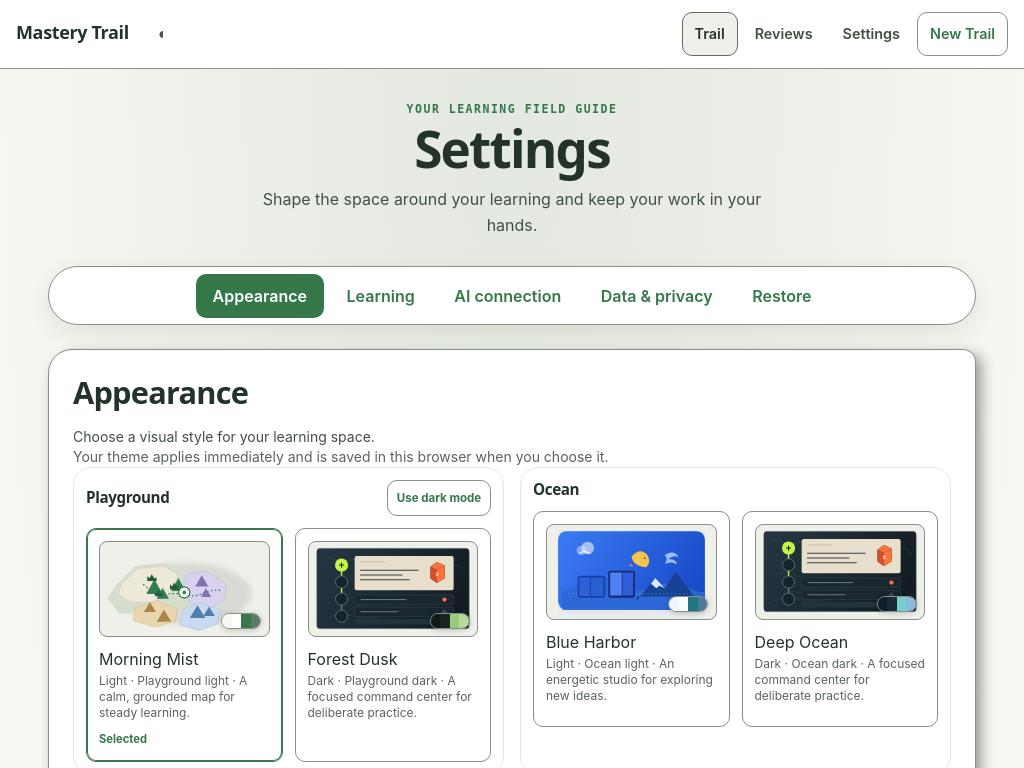
SettingsPage privacy and backup controls › renders export and import buttons
What coordinates should you click on to do the following:
click the button "Data & privacy"
I would click on:
 (657, 296)
Its box is [584,274,730,318].
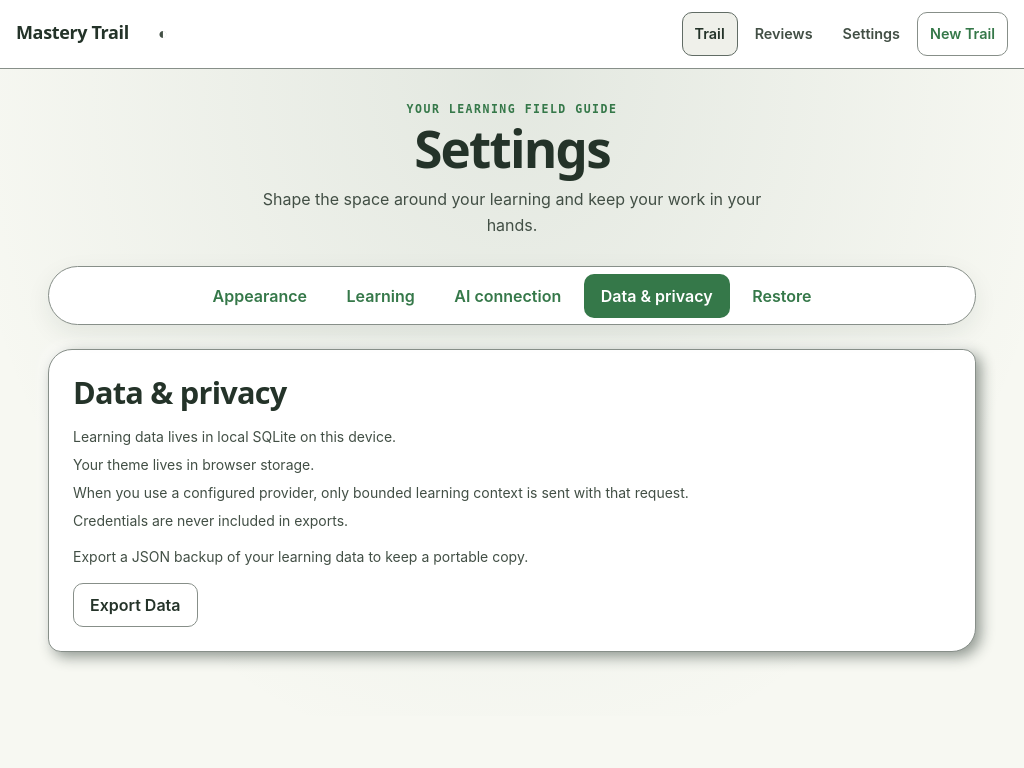
expect the heading "Data & privacy" is shown: met, box [73,371,286,413]
expect the button "Export Data" is shown: met, box [73,583,198,627]
What coordinates should you click on to do the following:
click the button "Restore"
I would click on:
 (782, 296)
Its box is [735,274,828,318].
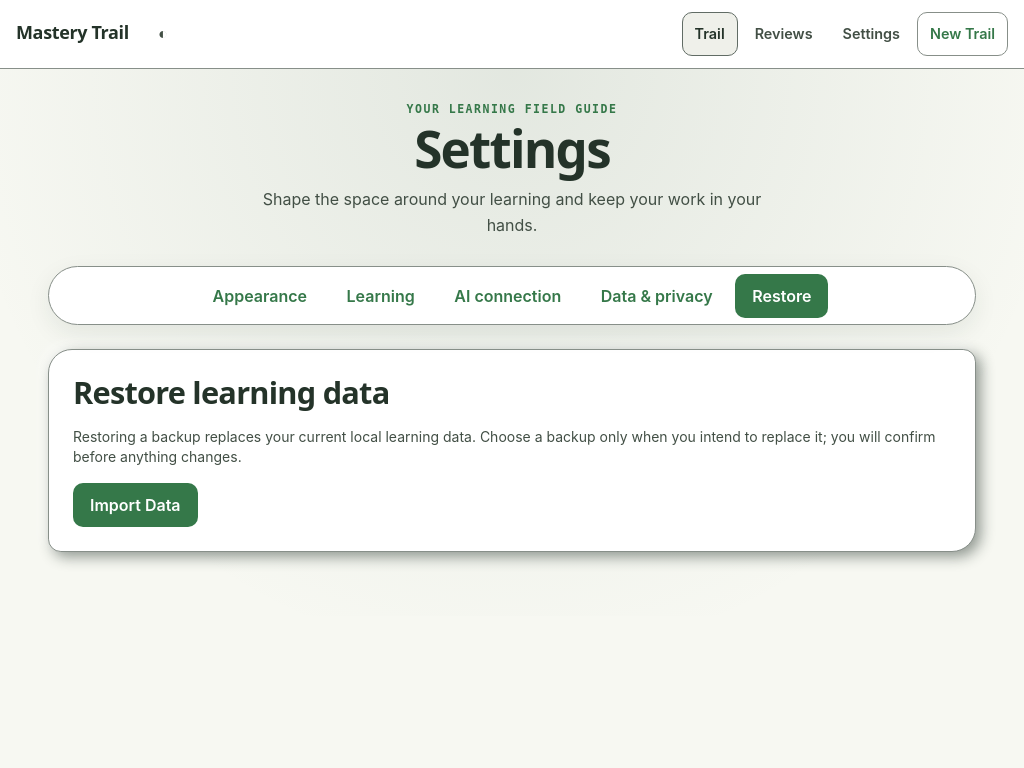
expect the button "Import Data" is shown: met, box [73,483,198,527]
